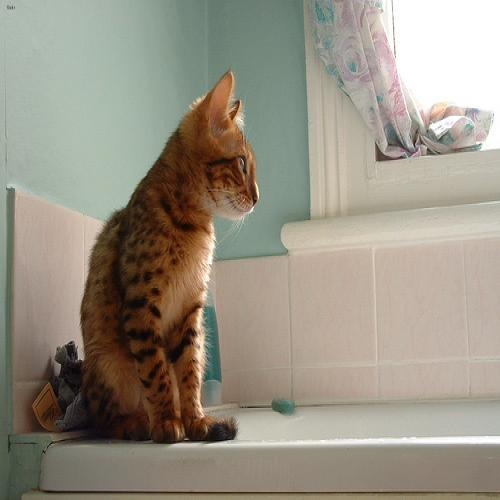cat-face: (181, 72, 269, 231)
